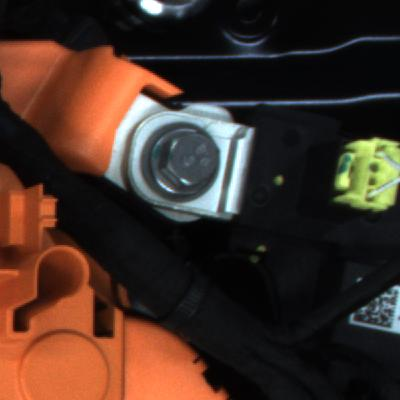nut_b: (140, 127, 236, 204)
